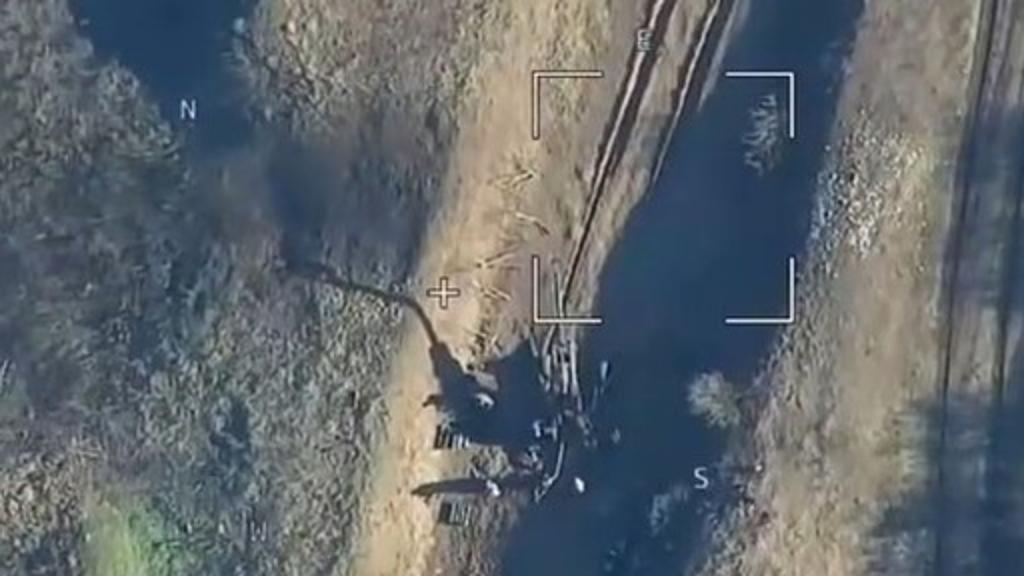ART: (482, 354, 618, 506)
